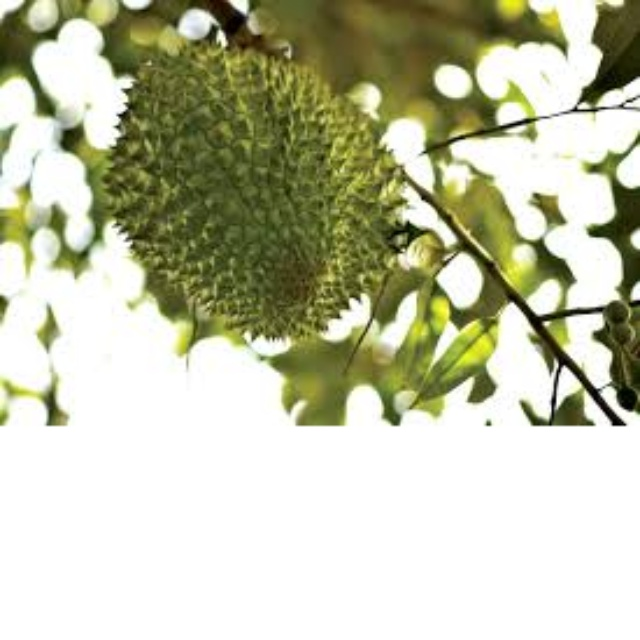sau_rieng: (98, 45, 399, 343)
